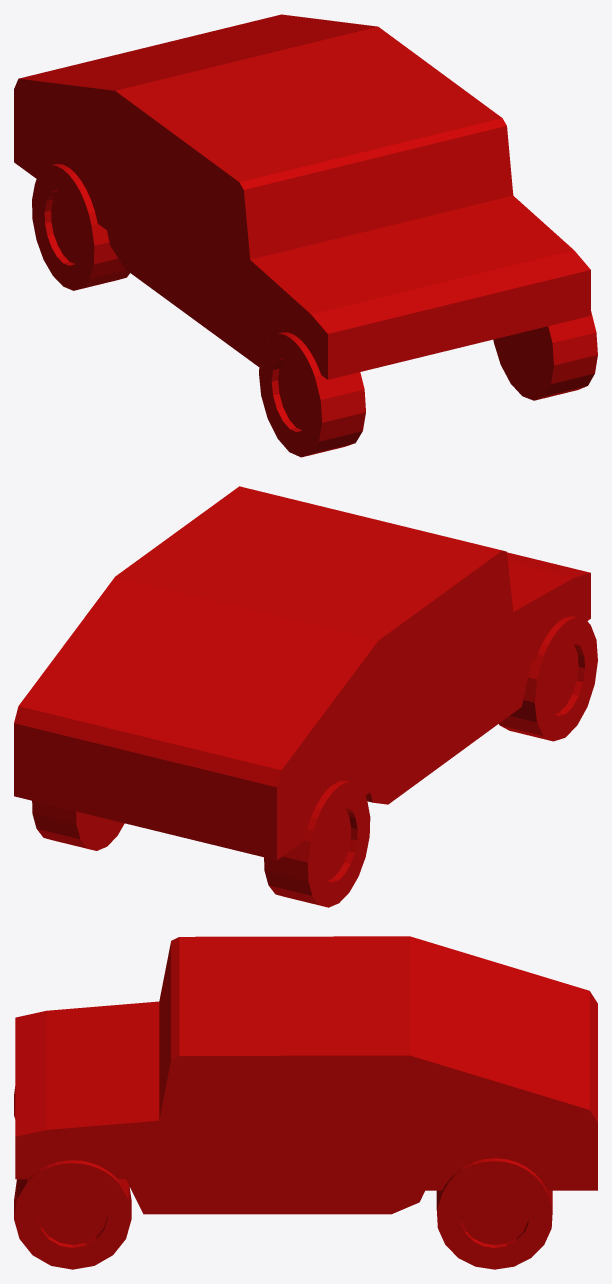
Rendered from Boardgame_Piece_Military_Modern_Humvee_Red_01.fbx.
The picture shows the model from 3 angles, top to bottom: view 1: azimuth 30°, elevation 25°; view 2: azimuth 150°, elevation 25°; view 3: azimuth 270°, elevation 25°; orthographic projection. The views are drawn at different scales.
Parts seen in each view (by area): view 1: Boardgame_Piece_Military_Modern_Humvee_Red_01; view 2: Boardgame_Piece_Military_Modern_Humvee_Red_01; view 3: Boardgame_Piece_Military_Modern_Humvee_Red_01.
Boxes of the visible parts, bbox=[...] form: Boardgame_Piece_Military_Modern_Humvee_Red_01: bbox=[14, 14, 597, 457]; Boardgame_Piece_Military_Modern_Humvee_Red_01: bbox=[14, 486, 597, 907]; Boardgame_Piece_Military_Modern_Humvee_Red_01: bbox=[14, 936, 597, 1269].
Bounding box in the file's own units: 697 × 549 × 1376.
